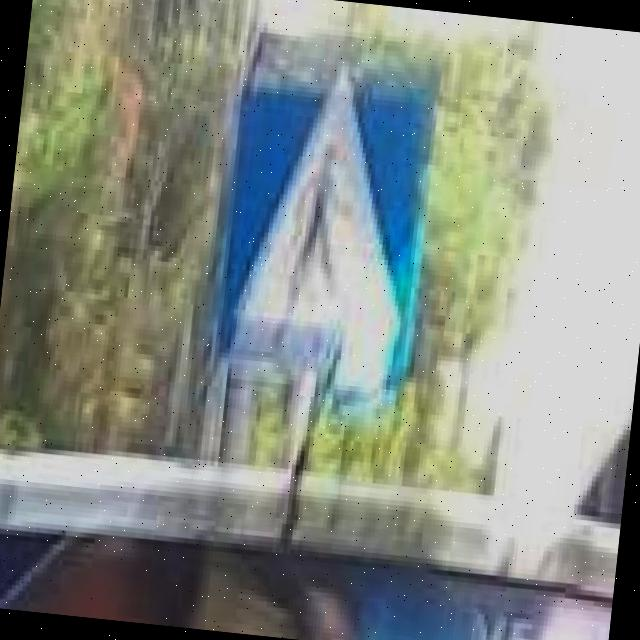Przejscie dla pieszych: (212, 56, 438, 387)
